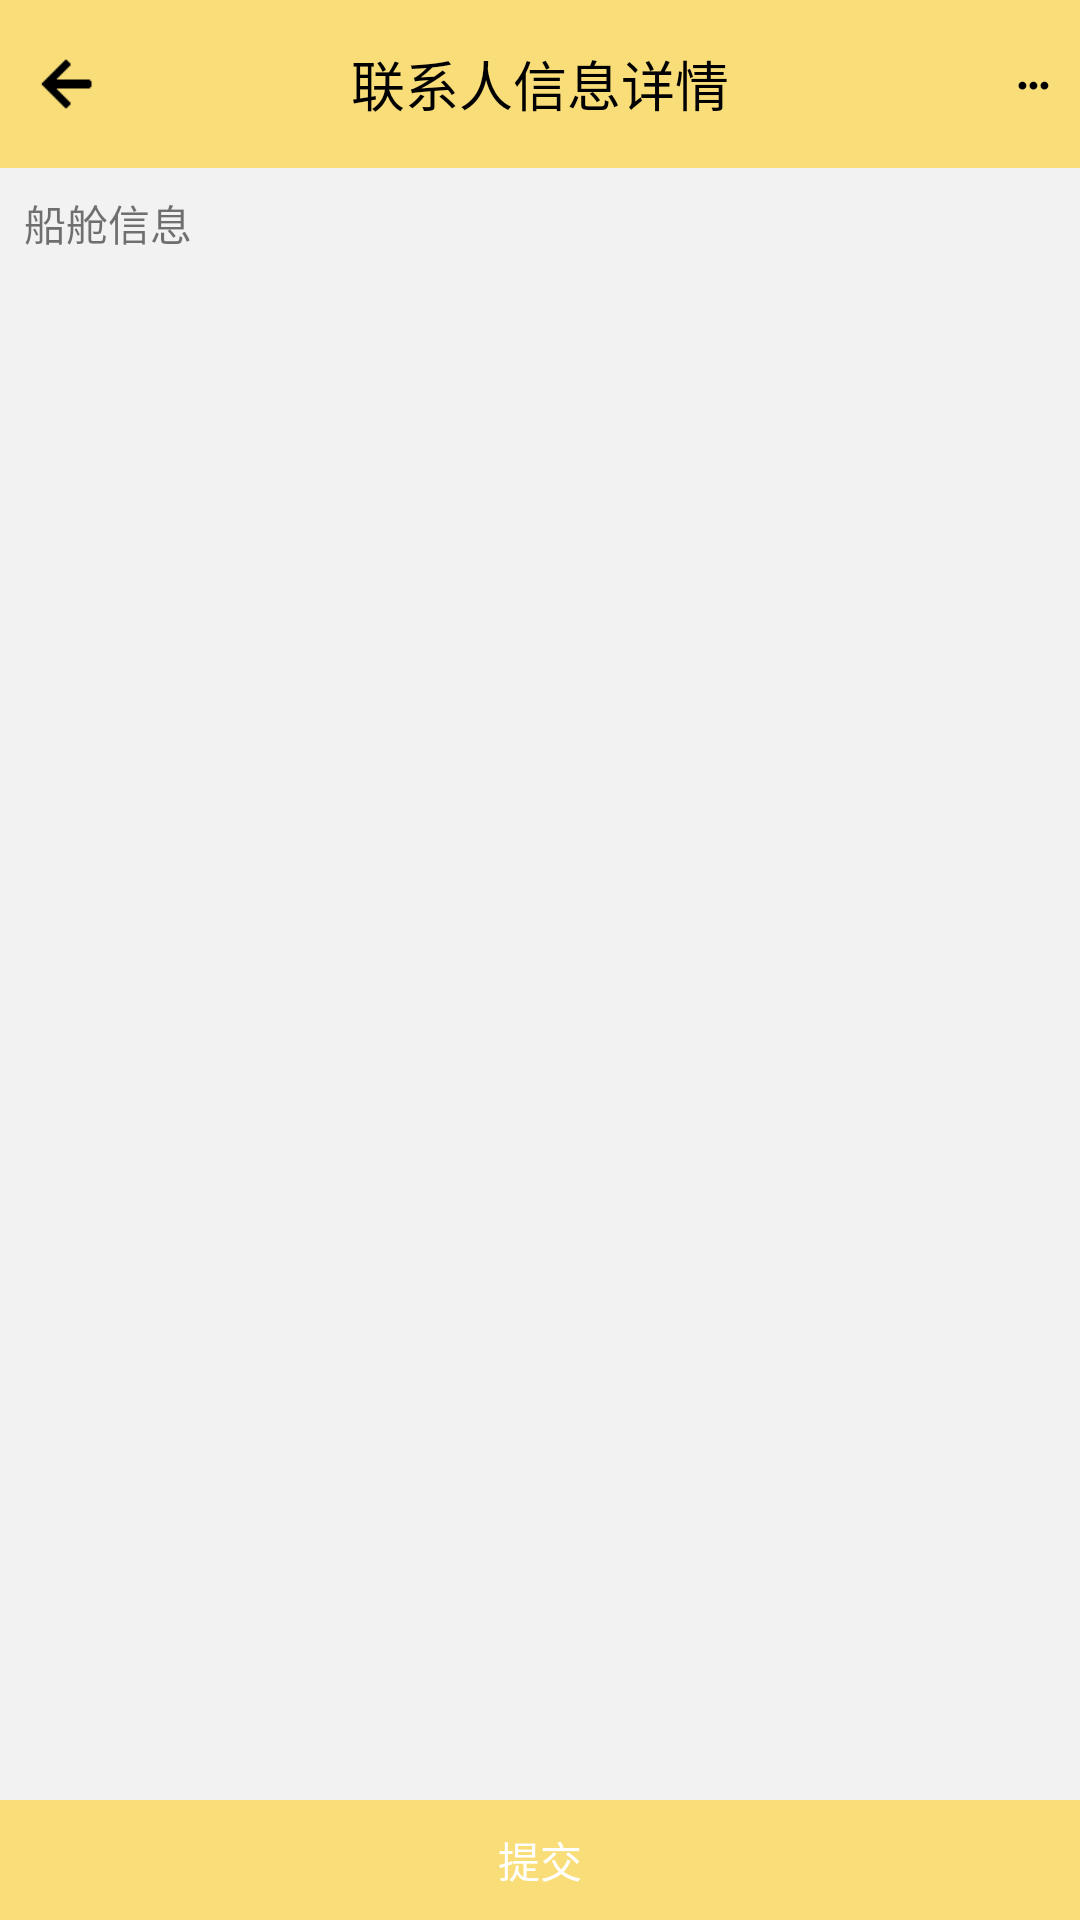

Icon bounding boxes for this 1080x1920 phone screenshot, format [x1,y1,x2,y2]:
back: [41,59,92,109]
